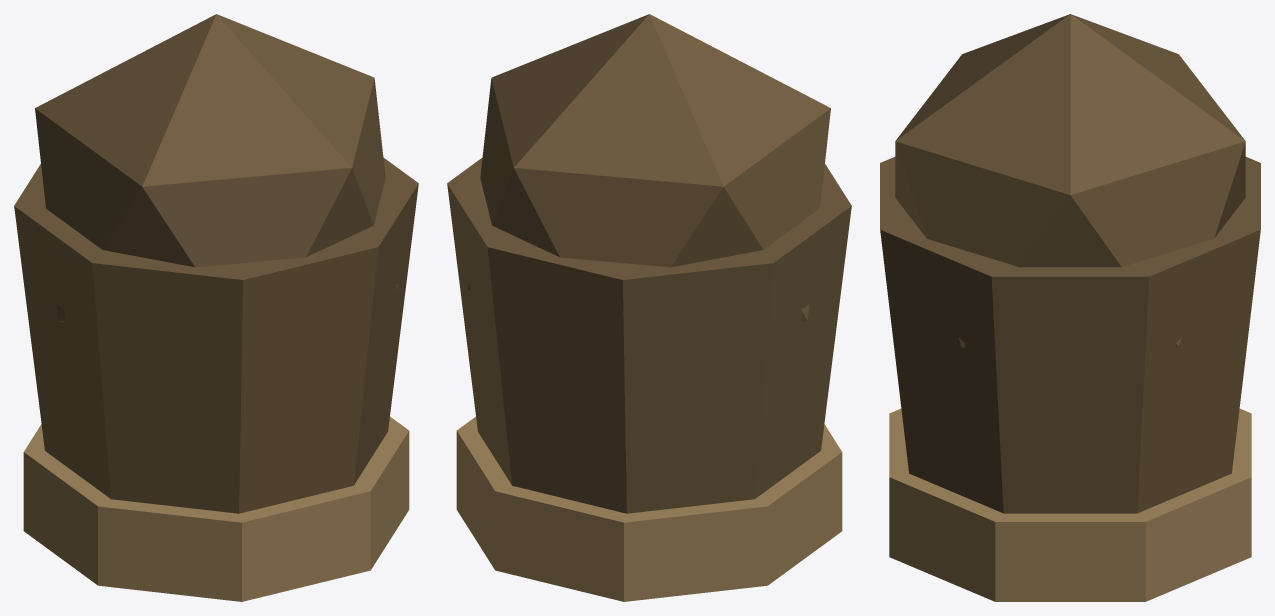
Rendered from inf_possum_upper_arm.fbx.
3 views of the same model, side by side, from view 1: azimuth 30°, elevation 25°; view 2: azimuth 150°, elevation 25°; view 3: azimuth 270°, elevation 25° (orthographic).
Visible parts, largest first — view 1: inf_possum_upper_arm; view 2: inf_possum_upper_arm; view 3: inf_possum_upper_arm.
Part boxes in pixels (box(x1,y1,x2,y2)): inf_possum_upper_arm: box(14, 14, 418, 601); inf_possum_upper_arm: box(447, 14, 851, 601); inf_possum_upper_arm: box(880, 14, 1260, 601).
Bounding box in the file's own units: 77.61 × 115 × 77.61.
